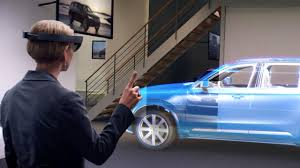hololens: (21, 29, 83, 56)
